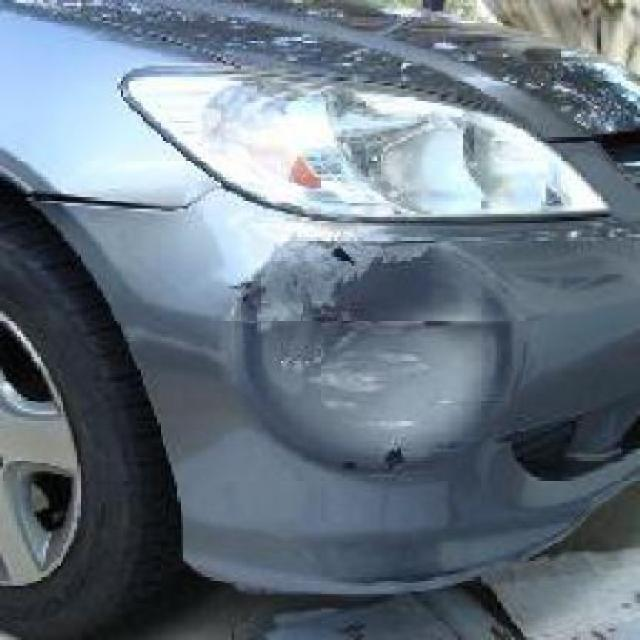dent-or-scratch: (237, 218, 506, 472)
